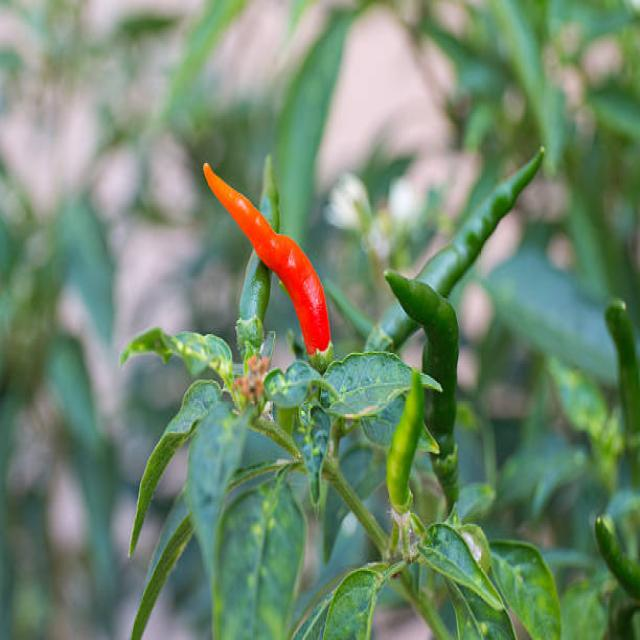Ripe: (204, 163, 332, 372)
Unripe: (378, 148, 544, 347), (385, 272, 459, 511), (386, 369, 425, 514), (236, 249, 270, 359), (595, 516, 640, 599), (260, 156, 279, 230)
